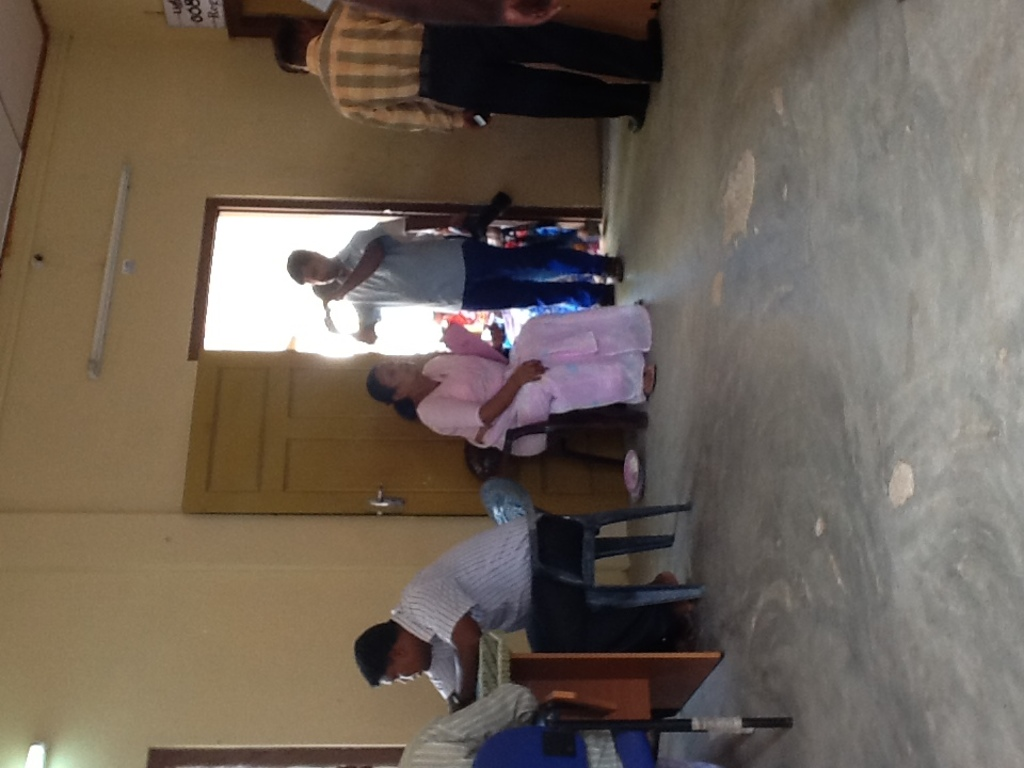Footwear: (657, 571, 690, 613), (642, 16, 662, 83), (628, 84, 647, 132), (643, 364, 661, 401), (608, 254, 622, 283), (604, 282, 614, 307)
